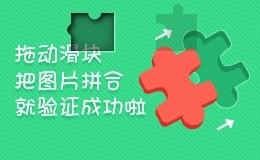target: (48, 0, 92, 32)
